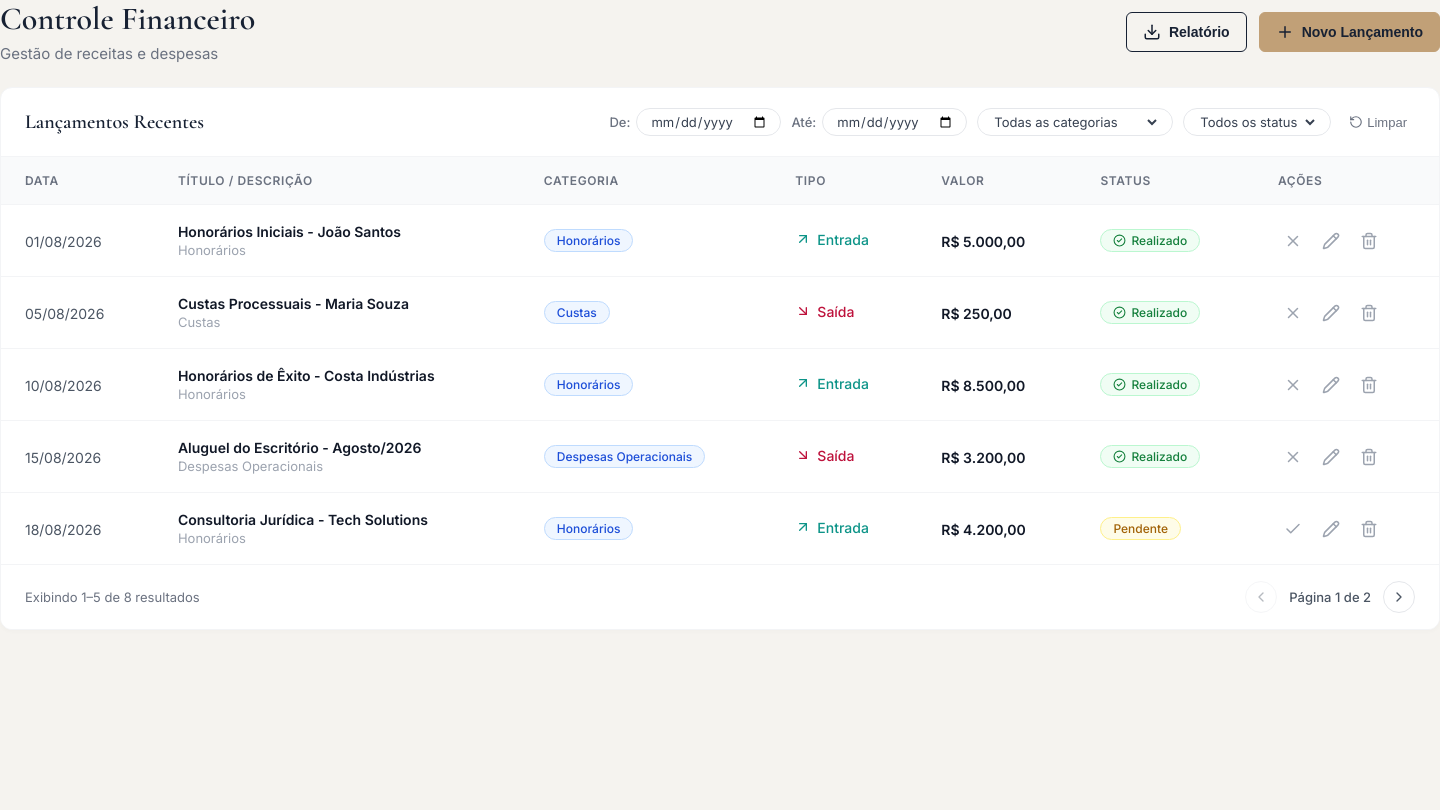
Test: FinancasClient › exibe mensagem de erro na tela caso a exclusão falhe
What coordinates should you click on to do the following:
click the button named "Excluir lançamento" in the row of "01/08/2026"
I would click on:
 (1369, 241)
Its box is [1354,226,1384,256].
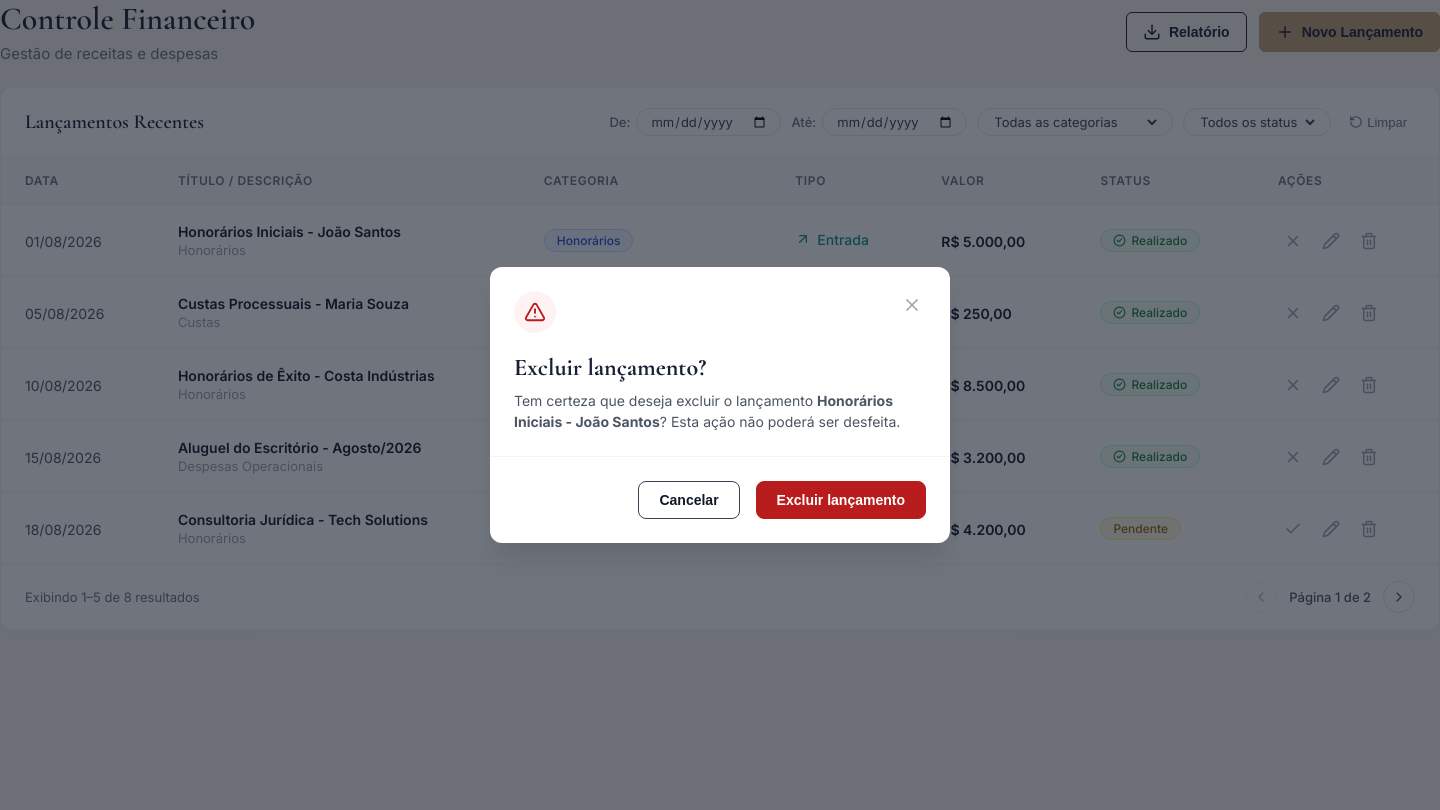
What coordinates should you click on to do the following:
click the button with class "deleteButton"
I would click on:
 (841, 500)
Its box is [756,481,926,519].
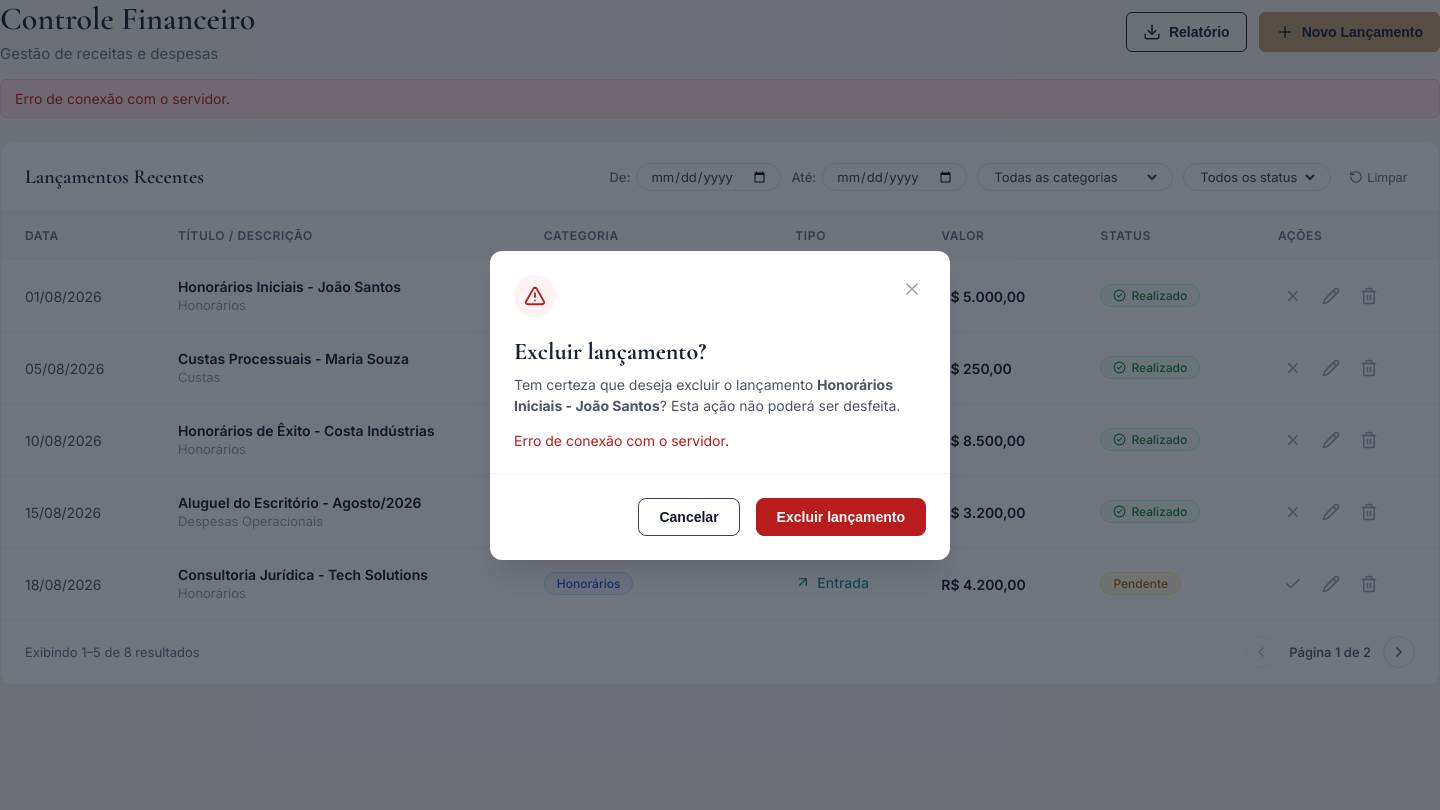
Expected: the text "Erro de conexão com o servidor." is shown, [0,79,1439,118]
